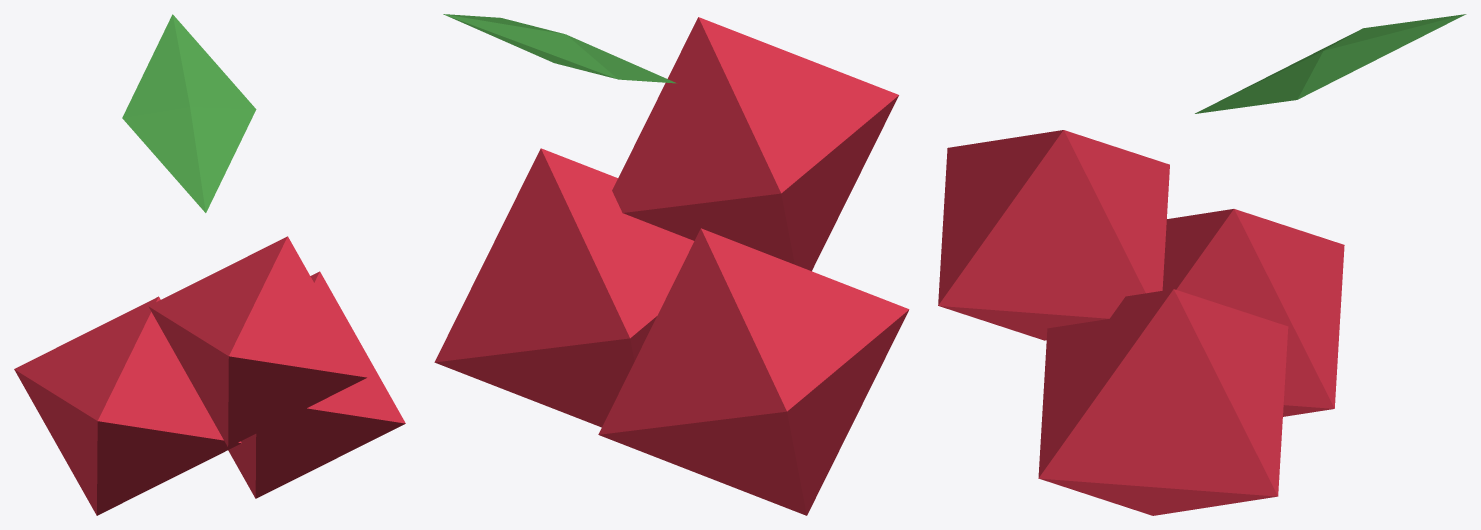
The model's file is food_berry_a.obj.
The picture shows the model from 3 angles, left to right: view 1: azimuth 30°, elevation 25°; view 2: azimuth 150°, elevation 25°; view 3: azimuth 270°, elevation 25°; orthographic projection. The views are drawn at different scales.
Visible parts, largest first — view 1: food_berry_a; view 2: food_berry_a; view 3: food_berry_a.
Boxes of the visible parts, x1,y1,x2,y2 form: food_berry_a: (14,14,405,515); food_berry_a: (434,14,909,515); food_berry_a: (938,14,1466,515).
Bounding box in the file's own units: 0.7217 × 0.9538 × 0.8709.
